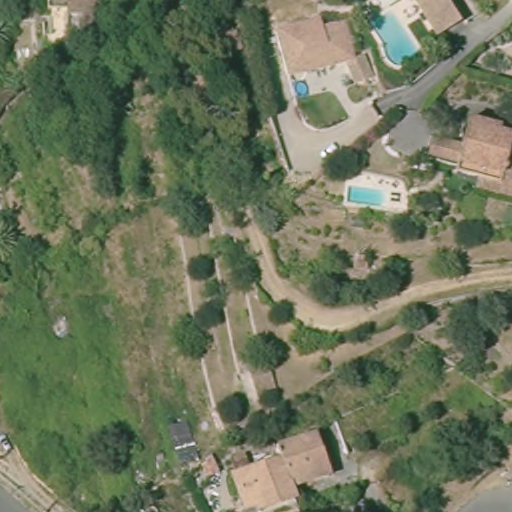pool: (357, 7, 426, 69), (344, 181, 392, 208), (288, 75, 312, 98)
